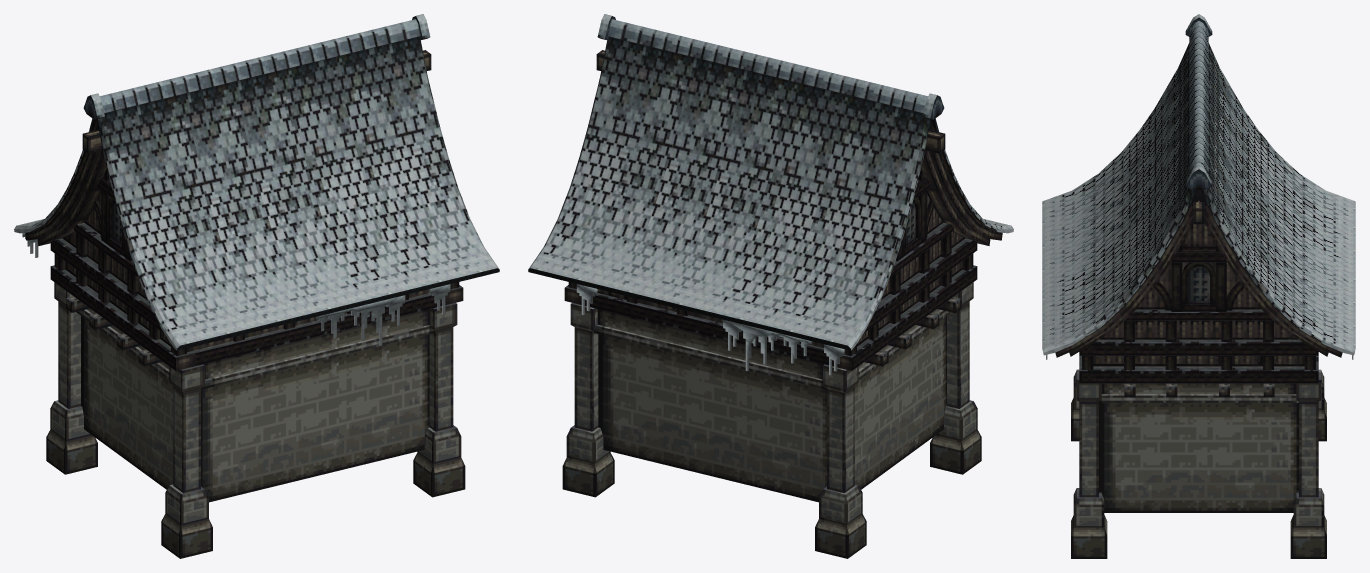
Rendered from EnvBdgMD_SnowHouse_A_Outdoor_House_A.FBX.
The picture shows the model from 3 angles, left to right: view 1: azimuth 30°, elevation 25°; view 2: azimuth 150°, elevation 25°; view 3: azimuth 270°, elevation 25°; orthographic projection. The views are drawn at different scales.
Parts seen in each view (by area): view 1: EnvBdgMD_SnowHouse_A_Outdoor_House_A; view 2: EnvBdgMD_SnowHouse_A_Outdoor_House_A; view 3: EnvBdgMD_SnowHouse_A_Outdoor_House_A.
Part boxes in pixels (x1,y1,x2,y2): EnvBdgMD_SnowHouse_A_Outdoor_House_A: (14, 14, 499, 558); EnvBdgMD_SnowHouse_A_Outdoor_House_A: (528, 14, 1013, 558); EnvBdgMD_SnowHouse_A_Outdoor_House_A: (1042, 14, 1355, 558).
Size of the model in its own units: 680 by 796 by 563.
1 material, 1 textured.
